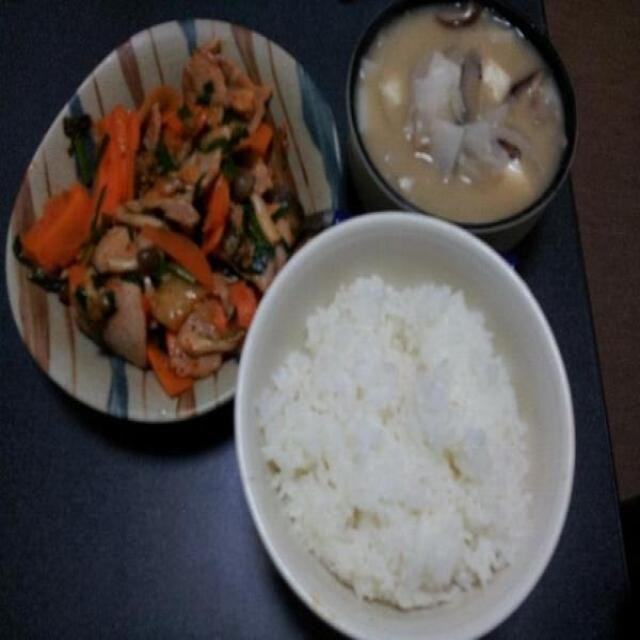Rice: (270, 280, 538, 597)
